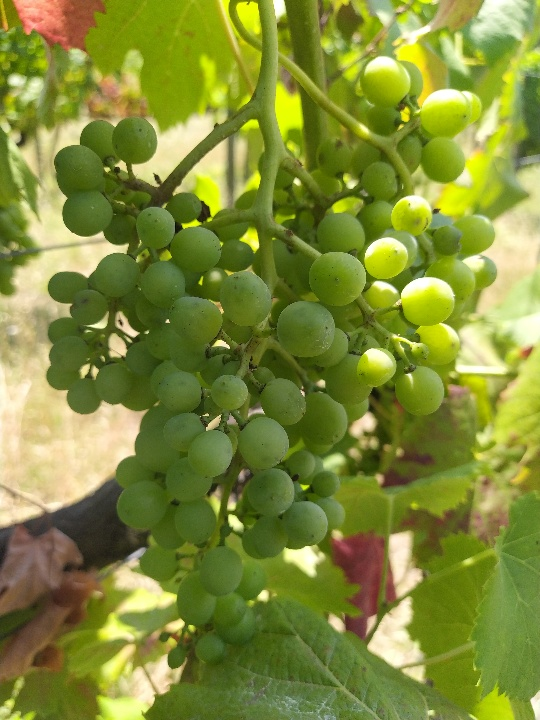grape: (44, 54, 498, 686)
